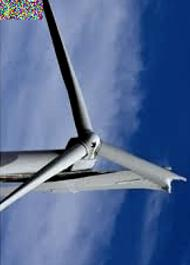faulty: (13, 121, 187, 197)
